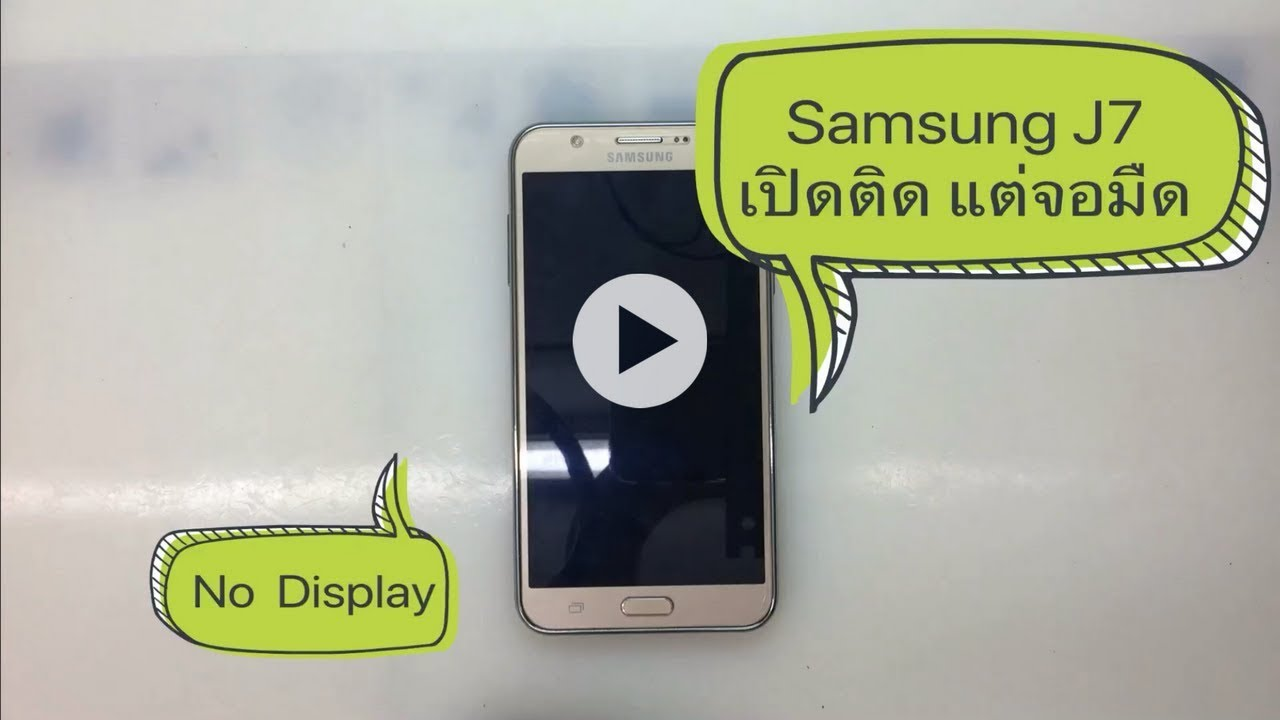Phone: (503, 118, 780, 637)
